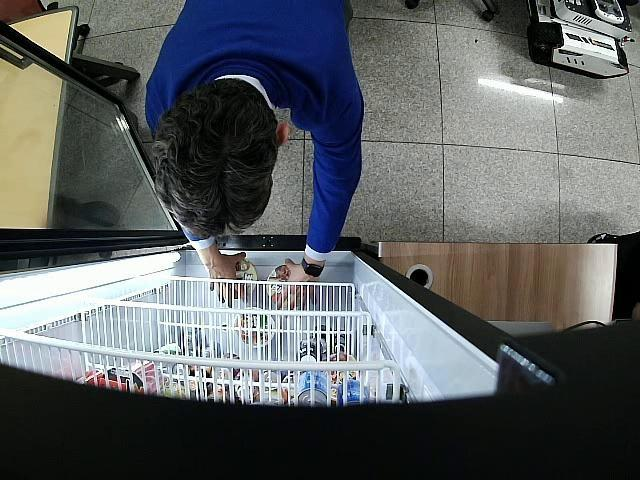03_chapagetti_L: (223, 254, 257, 299), (266, 265, 300, 308)
